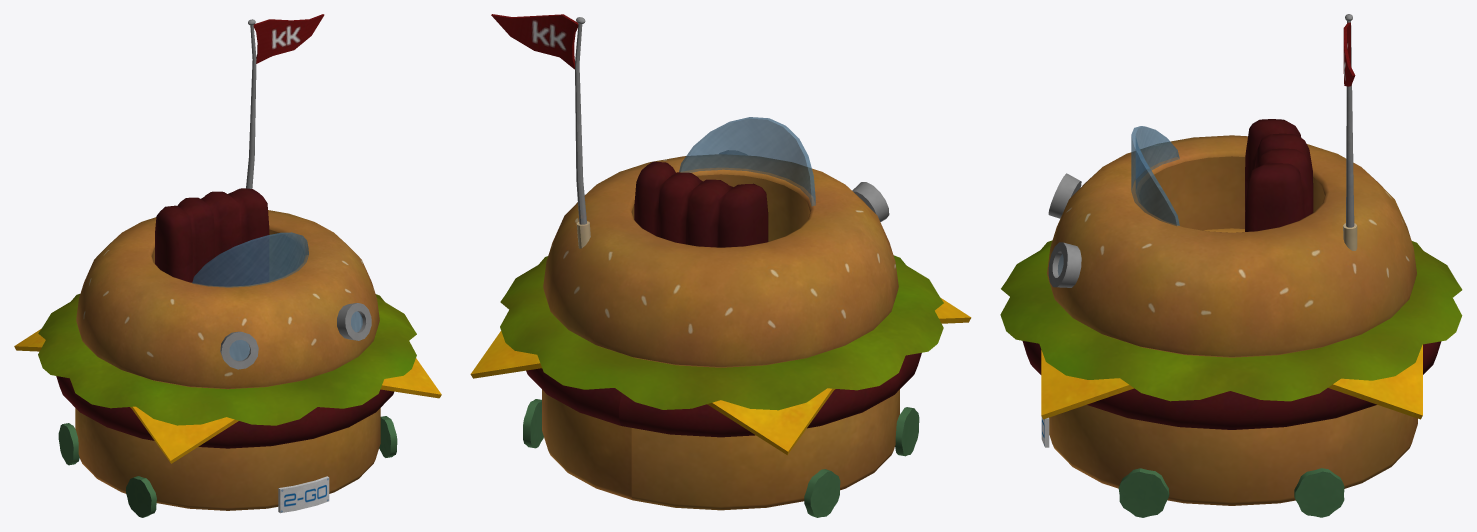
Rendered from krusty_krab_patty_wagon.glb.
The picture shows the model from 3 angles, left to right: view 1: azimuth 30°, elevation 25°; view 2: azimuth 150°, elevation 25°; view 3: azimuth 270°, elevation 25°; orthographic projection. The views are drawn at different scales.
Visible parts, largest first — view 1: Patty_Wagon_LP; view 2: Patty_Wagon_LP; view 3: Patty_Wagon_LP.
Boxes of the visible parts, x1=… form: Patty_Wagon_LP: x1=14, y1=14, x2=441, y2=517; Patty_Wagon_LP: x1=470, y1=14, x2=971, y2=517; Patty_Wagon_LP: x1=1000, y1=14, x2=1462, y2=517.
Size of the model in its own units: 1.78 by 2 by 1.78.
1 material, 1 textured.
